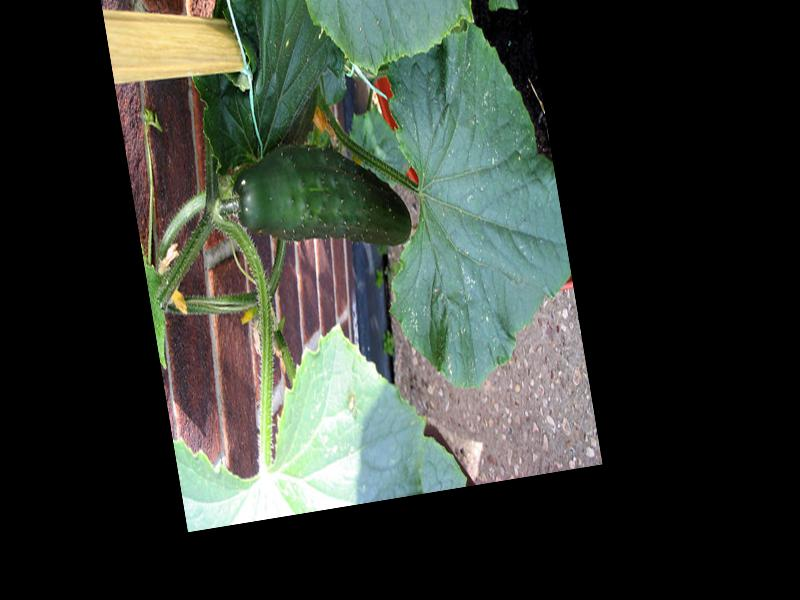Cucumber: (228, 129, 415, 273)
